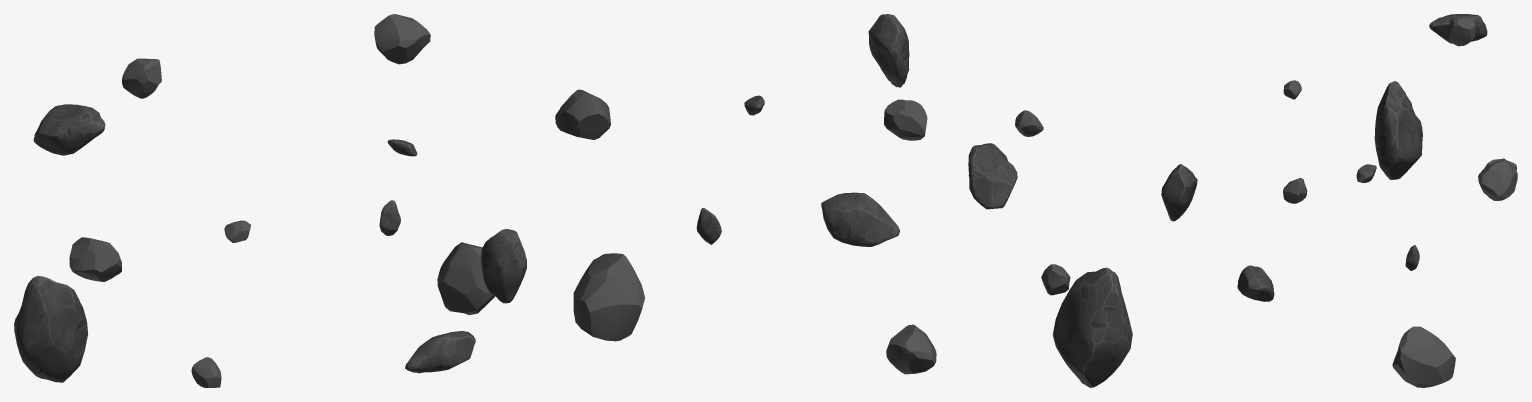
Rendered from rocks.glb.
3 views of the same model, side by side, from view 1: azimuth 30°, elevation 25°; view 2: azimuth 150°, elevation 25°; view 3: azimuth 270°, elevation 25° (orthographic). The views are drawn at different scales.
Parts seen in each view (by area): view 1: Object_2, lp, Object_2.001, Object_2.004, lp_Material.001_0.001, Object_2.005, lp_Material.001_0.005, lp_Material.001_0.004, lp_Material.001_0.002, Object_2.002, lp_Material.001_0.003; view 2: Object_2, lp, Object_2.005, Object_2.001, Object_2.004, lp_Material.001_0.001, lp_Material.001_0.005, lp_Material.001_0.004, lp_Material.001_0.002, Object_2.002, lp_Material.001_0.003; view 3: Object_2, lp, Object_2.004, lp_Material.001_0.001, Object_2.005, Object_2.001, lp_Material.001_0.004, lp_Material.001_0.002.
Boxes of the visible parts, left/top/right/bottom form: Object_2: left=14, top=276, right=88, bottom=382; lp: left=437, top=242, right=495, bottom=314; Object_2.001: left=33, top=104, right=105, bottom=155; Object_2.004: left=481, top=229, right=526, bottom=303; lp_Material.001_0.001: left=374, top=14, right=430, bottom=64; Object_2.005: left=405, top=331, right=475, bottom=373; lp_Material.001_0.005: left=69, top=237, right=121, bottom=281; lp_Material.001_0.004: left=122, top=58, right=161, bottom=98; lp_Material.001_0.002: left=191, top=357, right=221, bottom=387; Object_2.002: left=379, top=200, right=400, bottom=235; lp_Material.001_0.003: left=224, top=220, right=250, bottom=242; Object_2: left=1052, top=267, right=1132, bottom=387; lp: left=573, top=253, right=644, bottom=341; Object_2.005: left=821, top=192, right=899, bottom=246; Object_2.001: left=968, top=143, right=1017, bottom=209; Object_2.004: left=868, top=14, right=909, bottom=87; lp_Material.001_0.001: left=555, top=89, right=610, bottom=139; lp_Material.001_0.005: left=886, top=324, right=936, bottom=374; lp_Material.001_0.004: left=884, top=99, right=927, bottom=140; lp_Material.001_0.002: left=1041, top=264, right=1070, bottom=295; Object_2.002: left=696, top=208, right=721, bottom=244; lp_Material.001_0.003: left=1015, top=110, right=1043, bottom=136; Object_2: left=1374, top=81, right=1422, bottom=179; lp: left=1392, top=326, right=1455, bottom=387; Object_2.004: left=1161, top=164, right=1197, bottom=221; lp_Material.001_0.001: left=1478, top=158, right=1517, bottom=200; Object_2.005: left=1237, top=265, right=1274, bottom=301; Object_2.001: left=1429, top=14, right=1487, bottom=43; lp_Material.001_0.004: left=1448, top=17, right=1476, bottom=46; lp_Material.001_0.002: left=1283, top=178, right=1307, bottom=203.
Size of the model in its own units: 15.9 by 9.34 by 12.1.
Materials: 3 (2 with a texture image).
